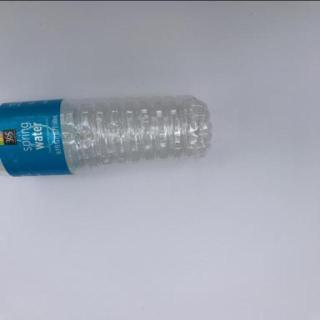Anorganik: (2, 86, 215, 180)
